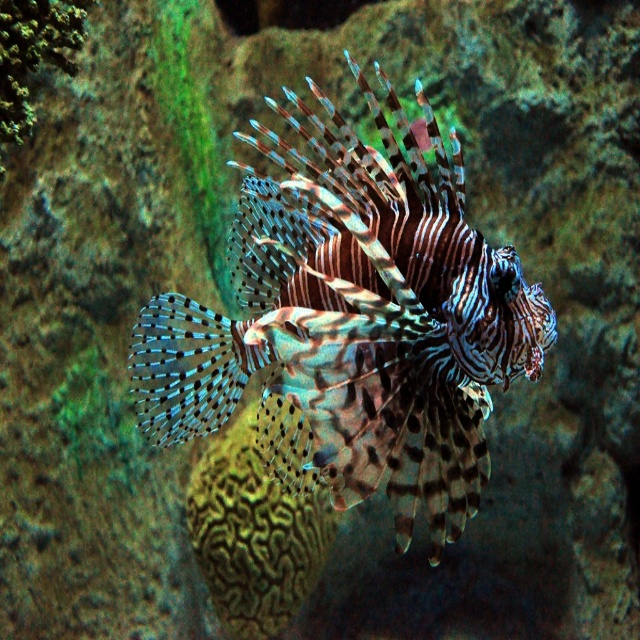Fish: (128, 49, 558, 567)
